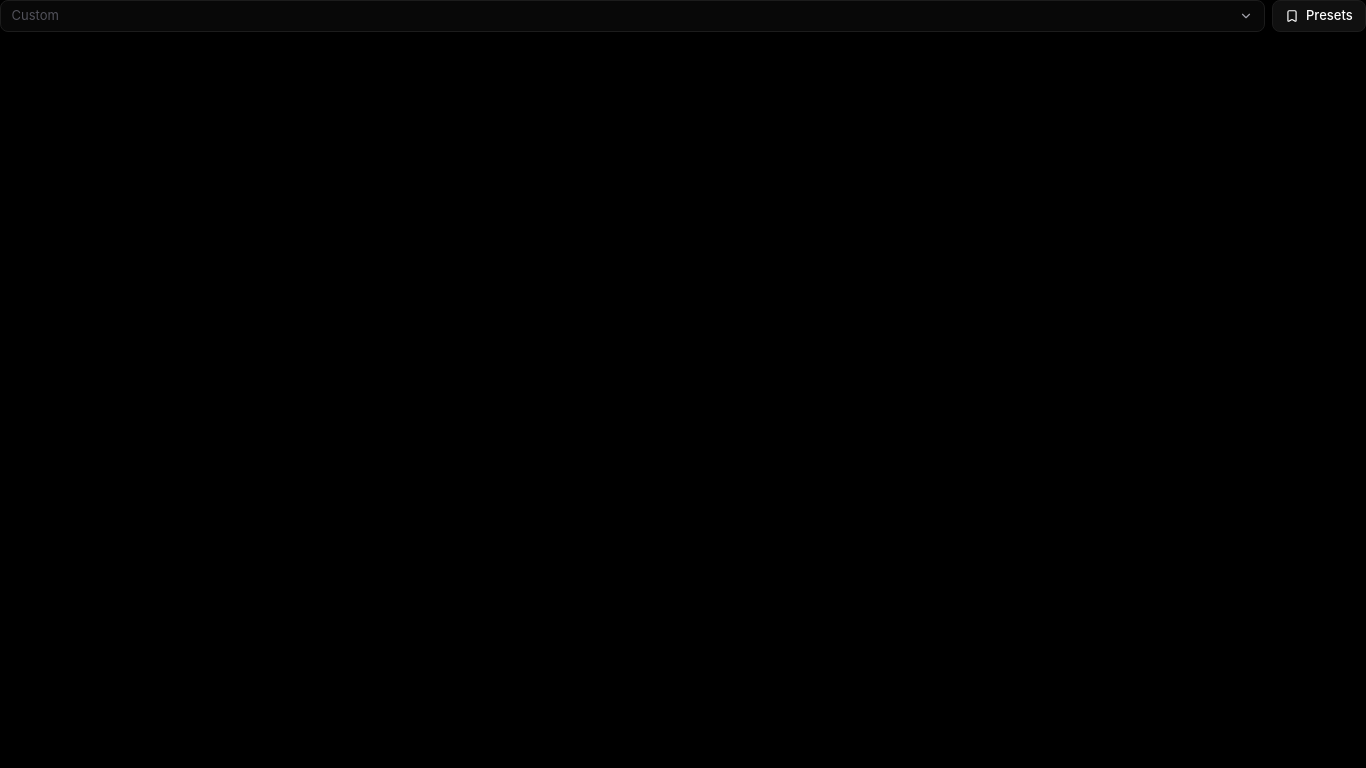
download customization › shows the applied preset and restores the defaults with Originale in Italian
This screenshot has width=1366, height=768.
Later steps or results of the test are not shown.
Click the button "Presets" at (1319, 16), box [1272,0,1365,32]
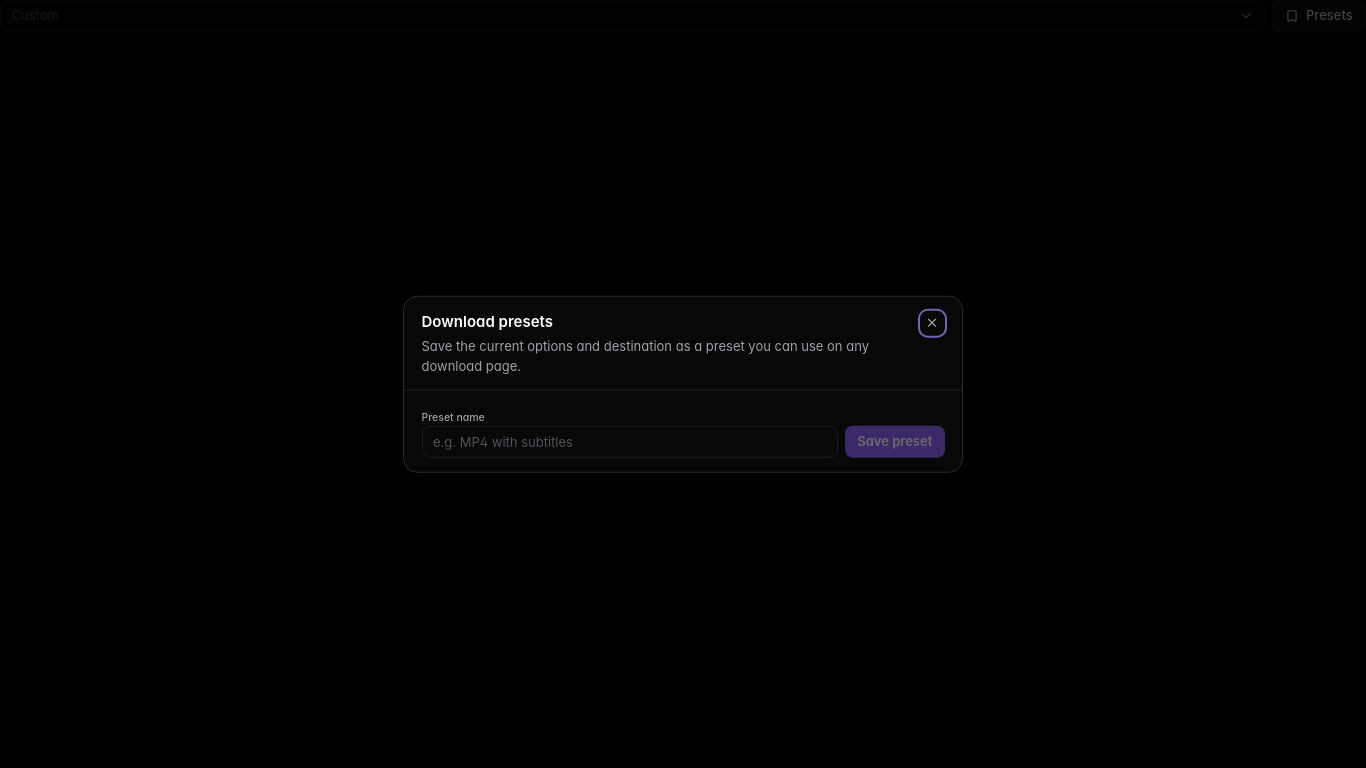
Type "Archive" into the field labelled "Preset name" at (630, 442), box [422,426,838,457]
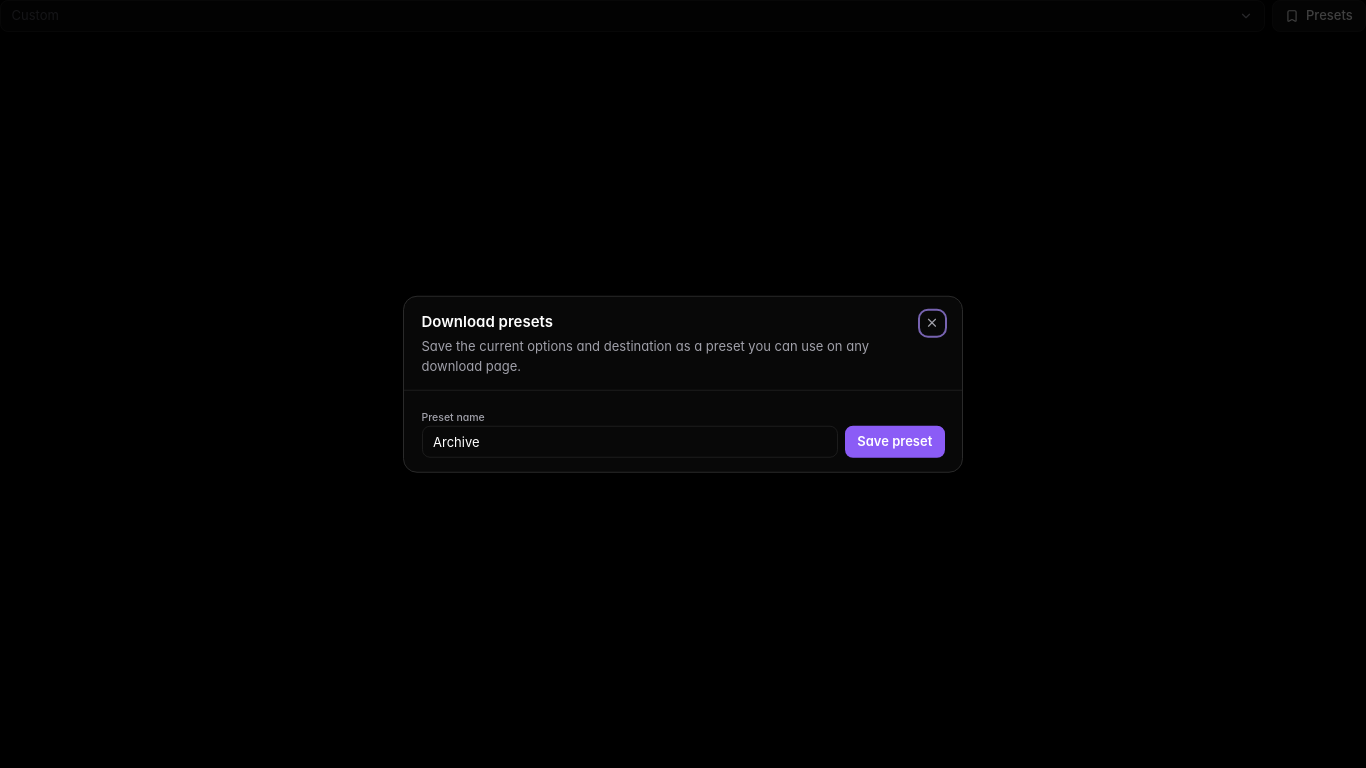
Click the button "Save preset" at (895, 442), box [845,426,944,457]
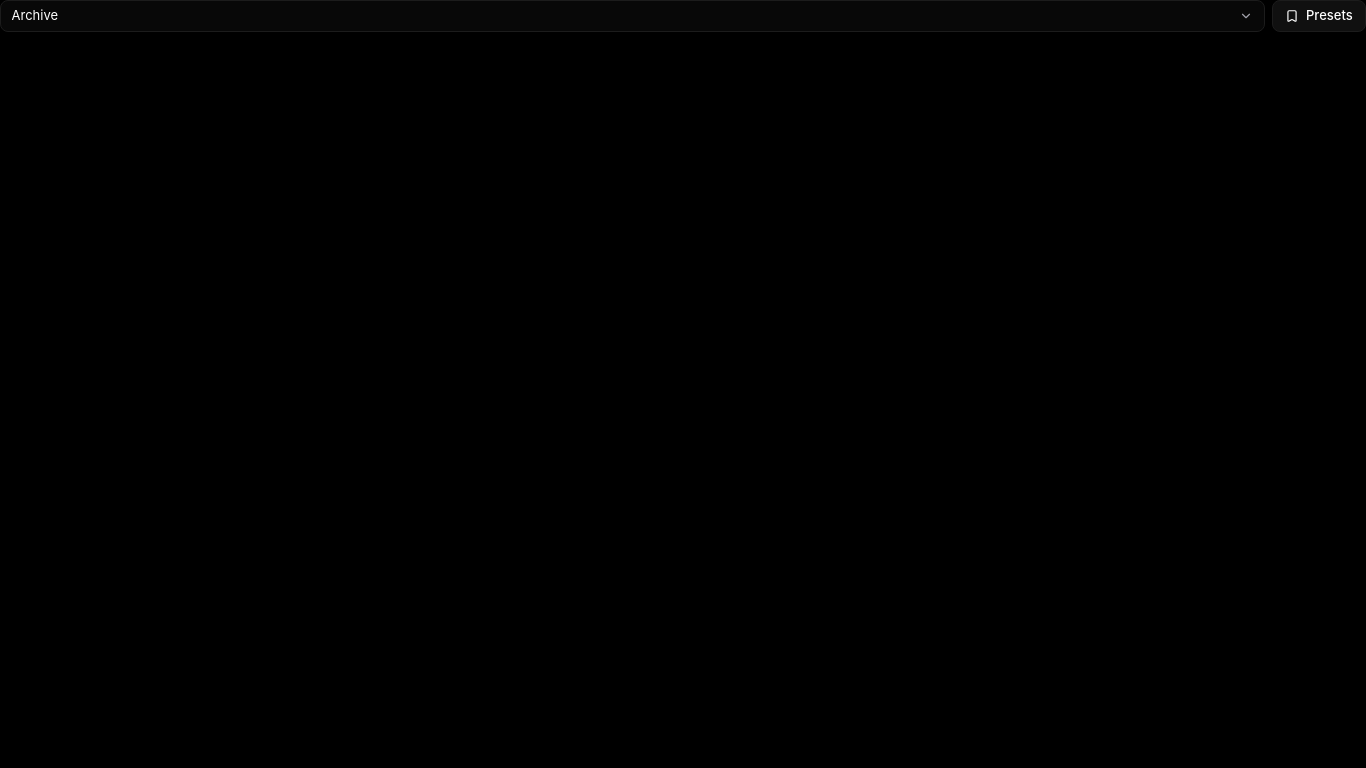
Check: the dialog is gone
Check: the dropdown reads "Archive", box [0,0,1265,32]
